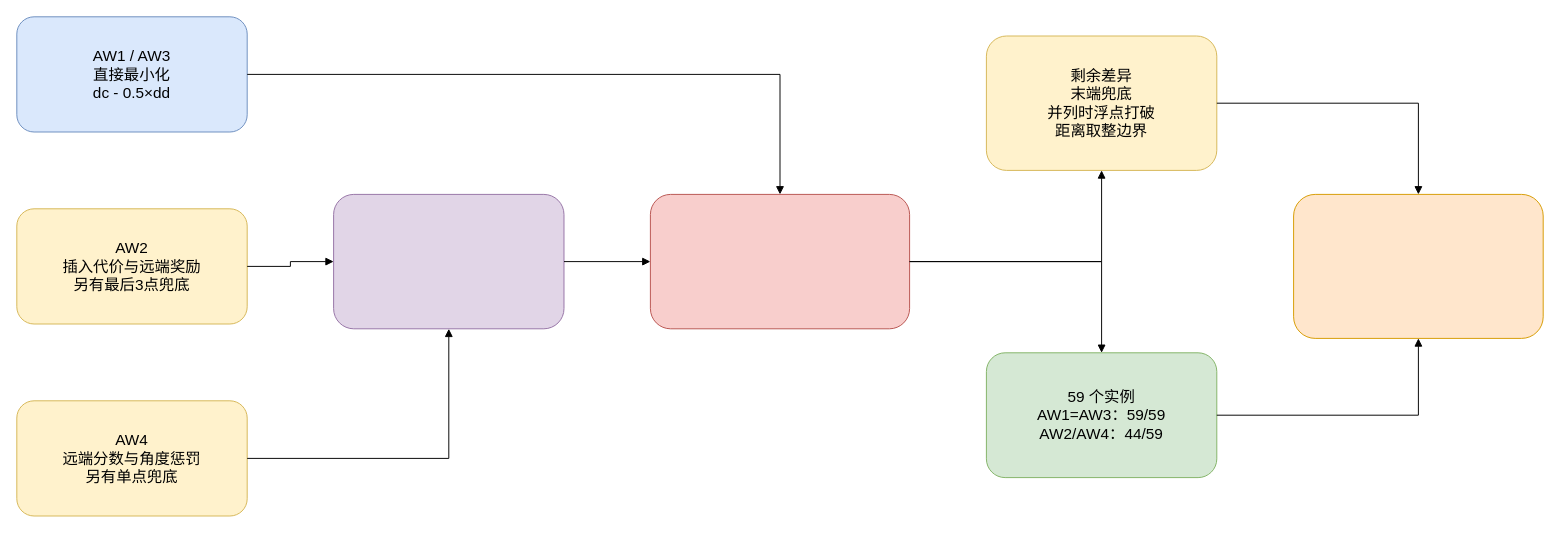
Some shapes in this 1560 by 533 pixel diagram are drawn without their labels. Each missing label, with the centre of its shape:
"代数化简 去掉与候选无关常数 绕行量非负" goes at [448,261].
"同一主体公式家族 argmin(dc - 0.5×dd)" goes at [779,261].
"框架方向 源码/AST hash 不够 下一步验证廉价路线功能签名" goes at [1418,265].
